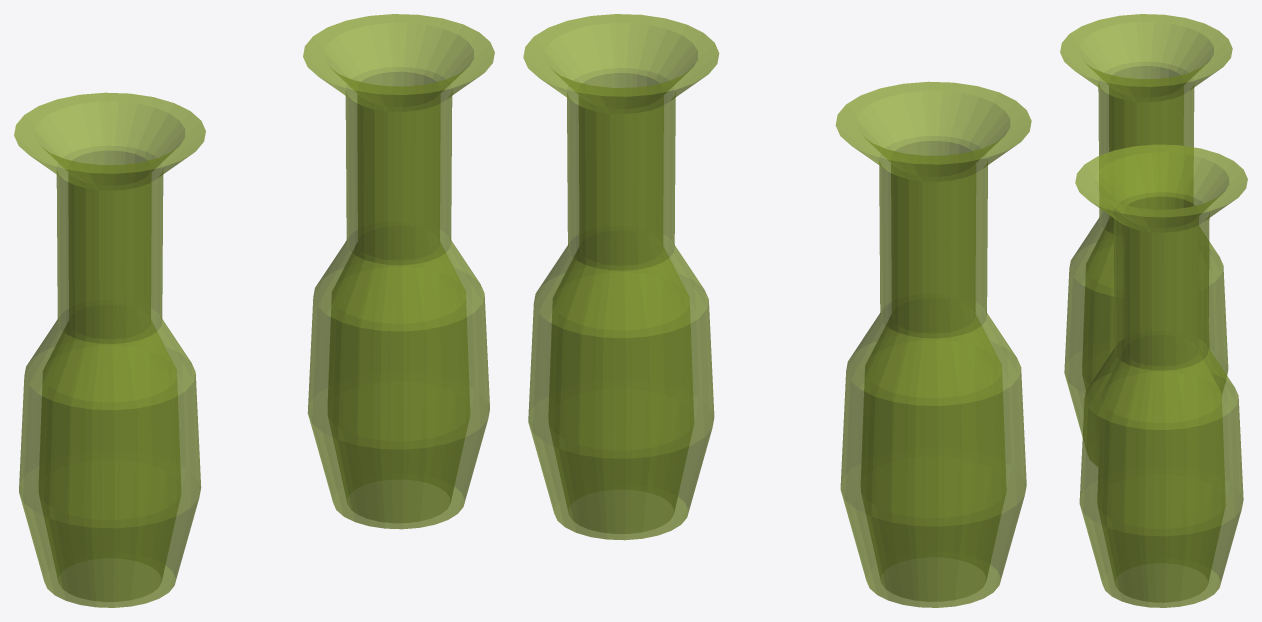
File: vase.glb
3 views of the same model, side by side, from view 1: azimuth 30°, elevation 25°; view 2: azimuth 150°, elevation 25°; view 3: azimuth 270°, elevation 25° (orthographic). The views are drawn at different scales.
Visible parts, largest first — view 1: Node146, Node382, Node348, Node28, Node247, Node29, Node360, Node24, Node44, Node305, Node23, Node335 (+174 smaller); view 2: Node146, Node382, Node363, Node38, Node40, Node295, Node266, Node37, Node259, Node41, Node338, Node27 (+174 smaller); view 3: Node382, Node146, Node357, Node325, Node321, Node269, Node332, Node379, Node319, Node296, Node334, Node337 (+187 smaller).
Boxes of the visible parts, bbox=[...] form: Node146: bbox=[14, 92, 205, 173]; Node382: bbox=[303, 14, 494, 94]; Node348: bbox=[380, 331, 403, 449]; Node28: bbox=[91, 409, 114, 528]; Node247: bbox=[403, 330, 427, 449]; Node29: bbox=[114, 408, 138, 528]; Node360: bbox=[357, 327, 381, 448]; Node24: bbox=[68, 406, 92, 527]; Node44: bbox=[136, 404, 159, 526]; Node305: bbox=[425, 326, 448, 447]; Node23: bbox=[49, 401, 71, 523]; Node335: bbox=[338, 322, 359, 444]; Node146: bbox=[835, 81, 1031, 164]; Node382: bbox=[523, 14, 719, 96]; Node363: bbox=[602, 337, 626, 458]; Node38: bbox=[914, 405, 938, 526]; Node40: bbox=[938, 404, 962, 526]; Node295: bbox=[626, 336, 650, 458]; Node266: bbox=[579, 334, 603, 457]; Node37: bbox=[891, 402, 915, 525]; Node259: bbox=[648, 332, 672, 456]; Node41: bbox=[961, 400, 984, 524]; Node338: bbox=[559, 329, 581, 454]; Node27: bbox=[871, 397, 893, 521]; Node382: bbox=[1075, 144, 1247, 217]; Node146: bbox=[1060, 14, 1232, 86]; Node357: bbox=[1144, 429, 1165, 536]; Node325: bbox=[1165, 428, 1186, 536]; Node321: bbox=[1124, 427, 1145, 535]; Node269: bbox=[1185, 425, 1206, 534]; Node332: bbox=[1106, 422, 1126, 532]; Node379: bbox=[1151, 232, 1164, 370]; Node319: bbox=[1164, 231, 1176, 370]; Node296: bbox=[1203, 419, 1222, 530]; Node334: bbox=[1154, 423, 1170, 528]; Node337: bbox=[1138, 422, 1154, 528].
Bounding box in the file's own units: 579 × 533 × 226.
